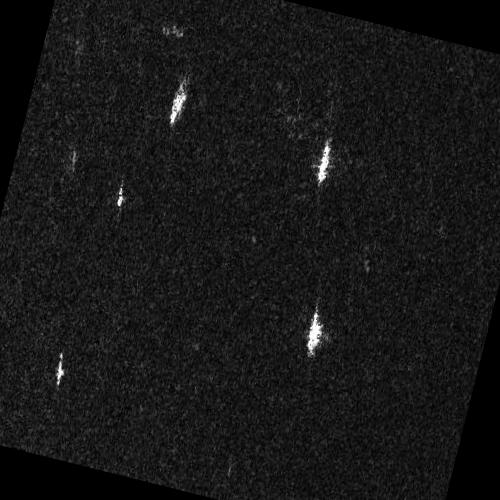ship: (307, 304, 323, 359), (169, 80, 188, 126), (317, 141, 331, 187), (55, 350, 64, 389), (116, 180, 124, 210)
